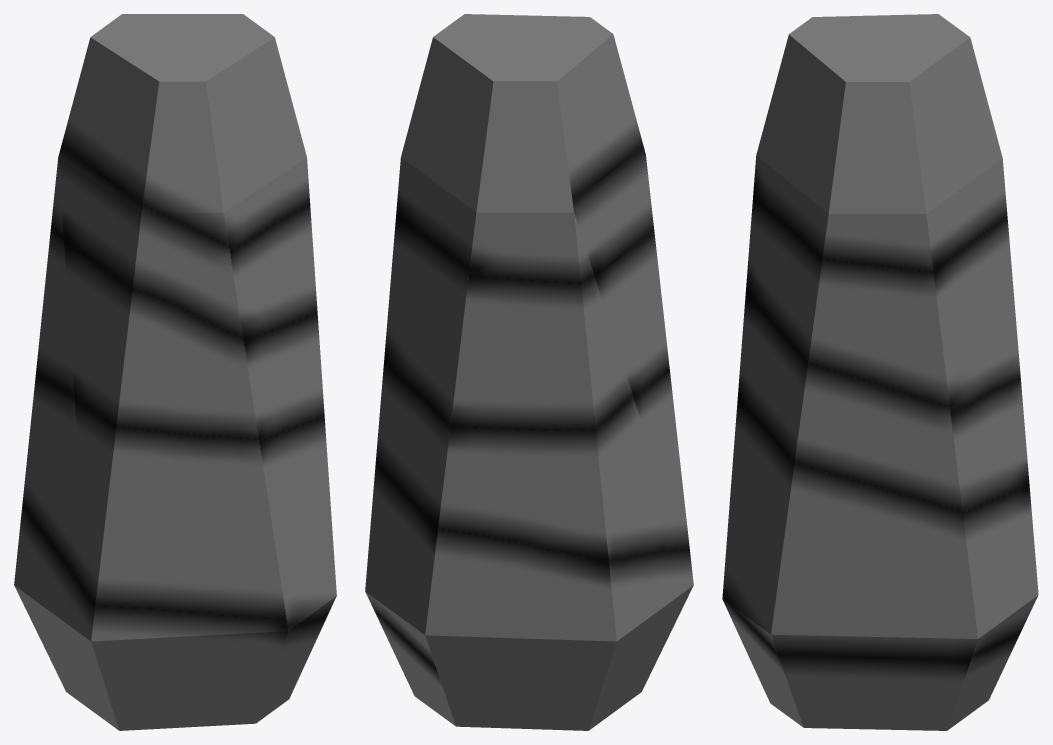
File: RockPillar.fbx
3 renders of one model, left to right at view 1: azimuth 30°, elevation 25°; view 2: azimuth 150°, elevation 25°; view 3: azimuth 270°, elevation 25°, orthographic.
Parts seen in each view (by area): view 1: Cylinder; view 2: Cylinder; view 3: Cylinder.
Boxes of the visible parts, box(x1,y1,x2,y2) form: Cylinder: box(14, 14, 336, 730); Cylinder: box(365, 14, 693, 730); Cylinder: box(722, 14, 1038, 730).
Size of the model in its own units: 320 by 821 by 362.
